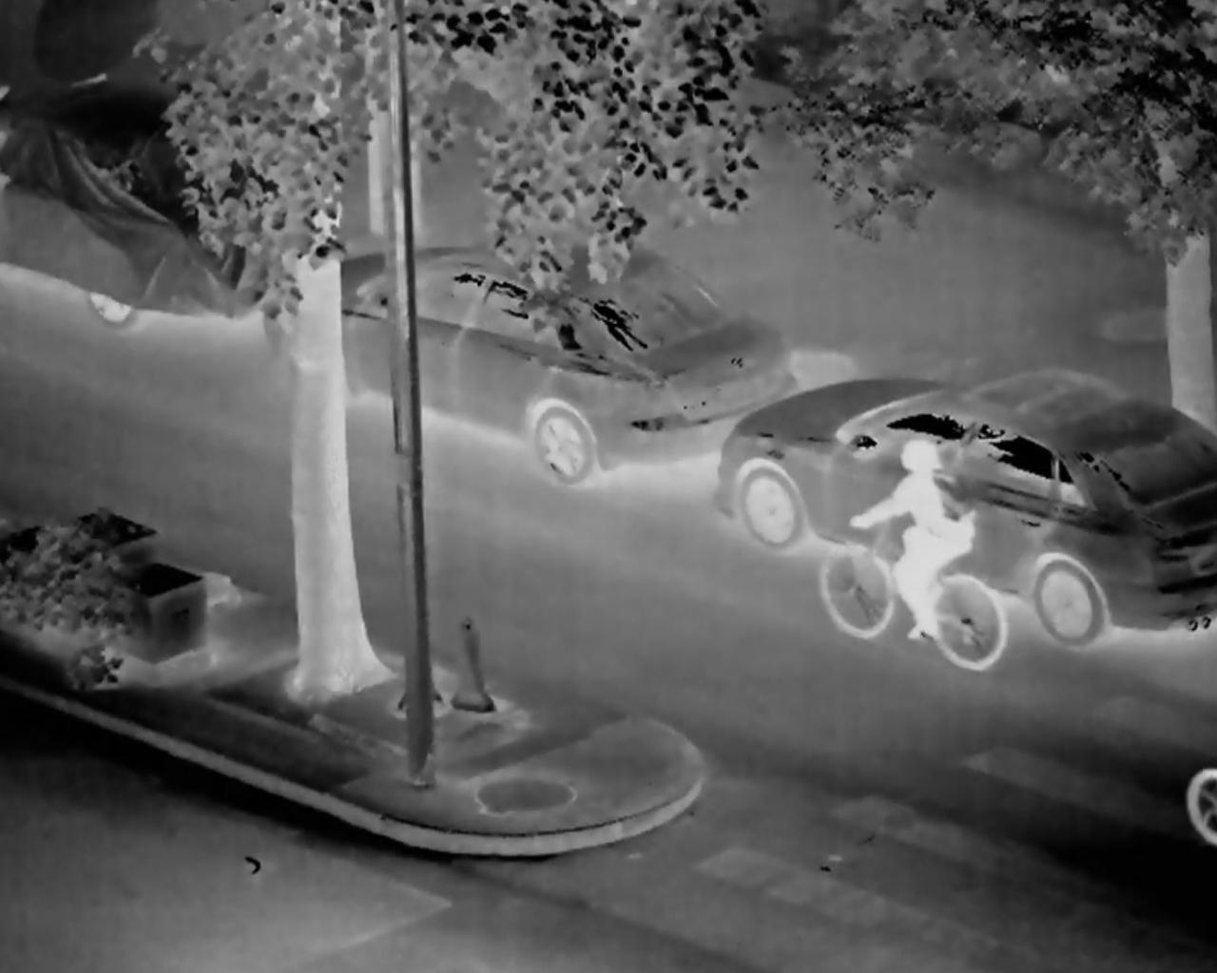person: (835, 427, 986, 661)
